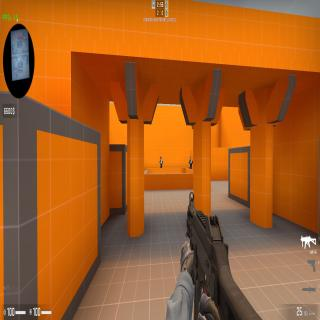T-Body: (159, 156, 163, 168), (189, 156, 192, 169)
T-Head: (160, 156, 162, 160), (190, 156, 190, 160)
